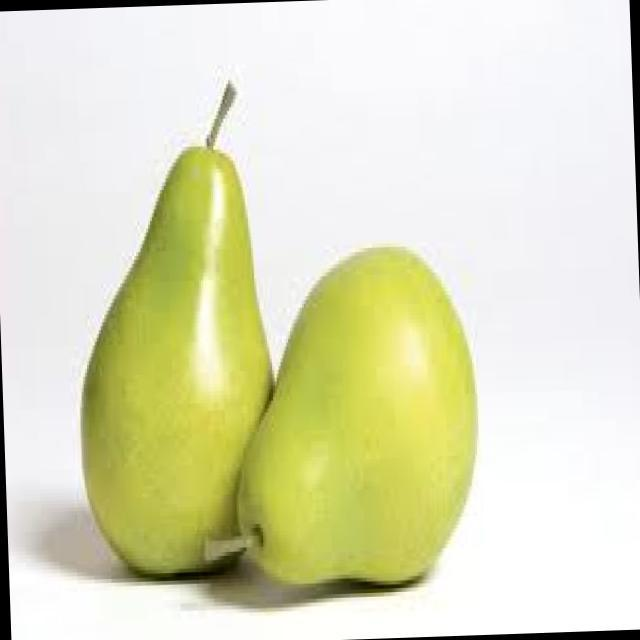Pear: (204, 228, 506, 602)
